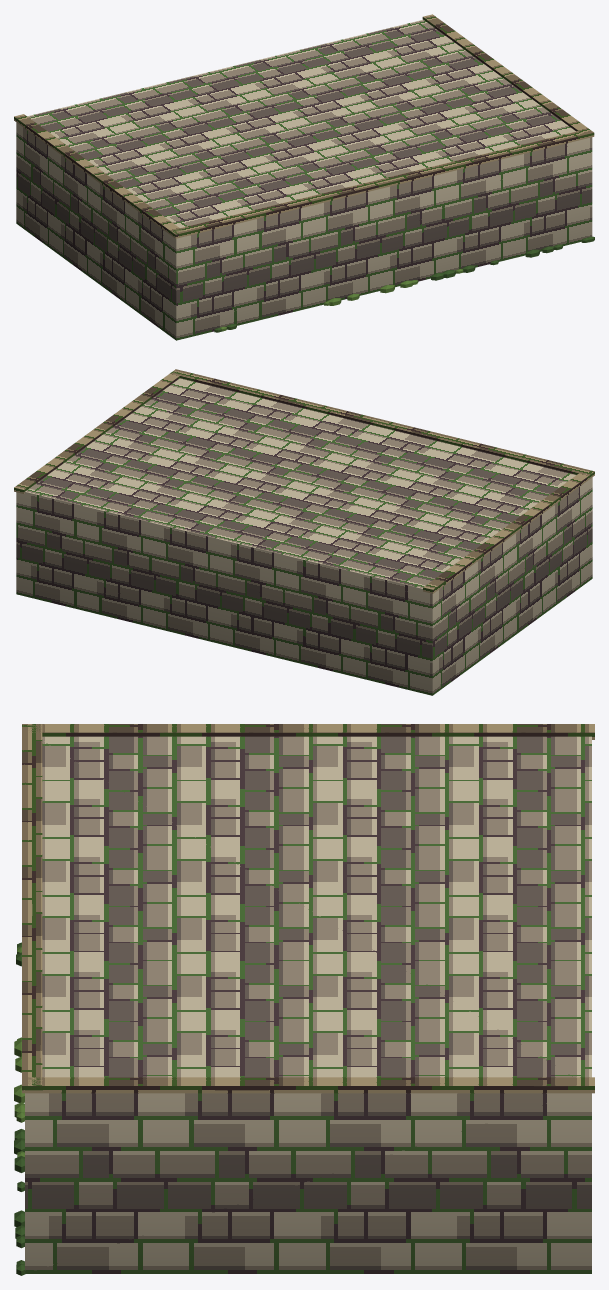
The model's file is scene_wall_e3.glb.
3 renders of one model, top to bottom at view 1: azimuth 30°, elevation 25°; view 2: azimuth 150°, elevation 25°; view 3: azimuth 270°, elevation 25°, orthographic. The views are drawn at different scales.
Parts seen in each view (by area): view 1: scene_wall_e3; view 2: scene_wall_e3; view 3: scene_wall_e3.
Boxes of the visible parts, x1=… form: scene_wall_e3: x1=14, y1=14, x2=594, y2=340; scene_wall_e3: x1=14, y1=369, x2=594, y2=695; scene_wall_e3: x1=14, y1=724, x2=594, y2=1275.
Size of the model in its own units: 15.12 by 3.77 by 10.24.
2 materials, 1 textured.
